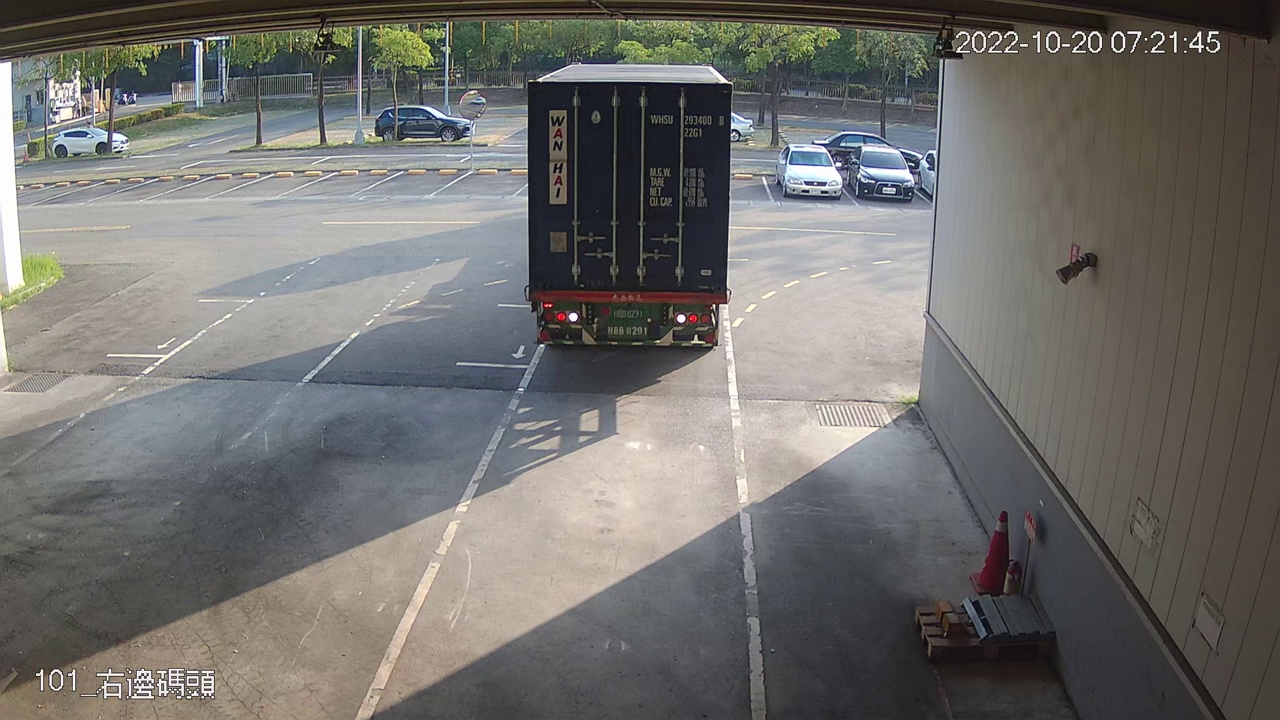container: (644, 107, 727, 141)
